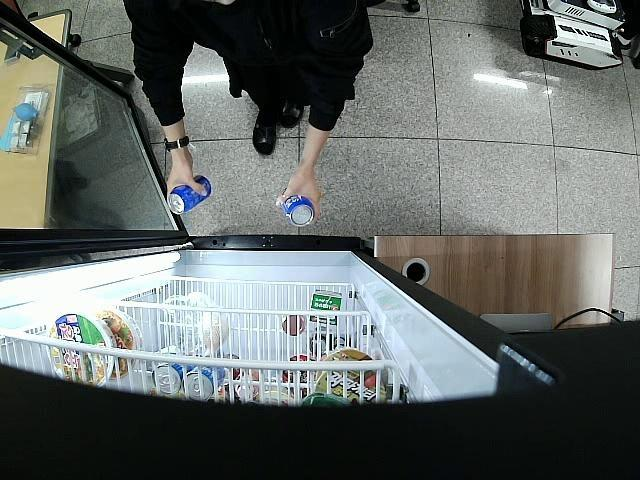13_pocariSweat: (167, 174, 212, 216), (282, 194, 315, 226)
